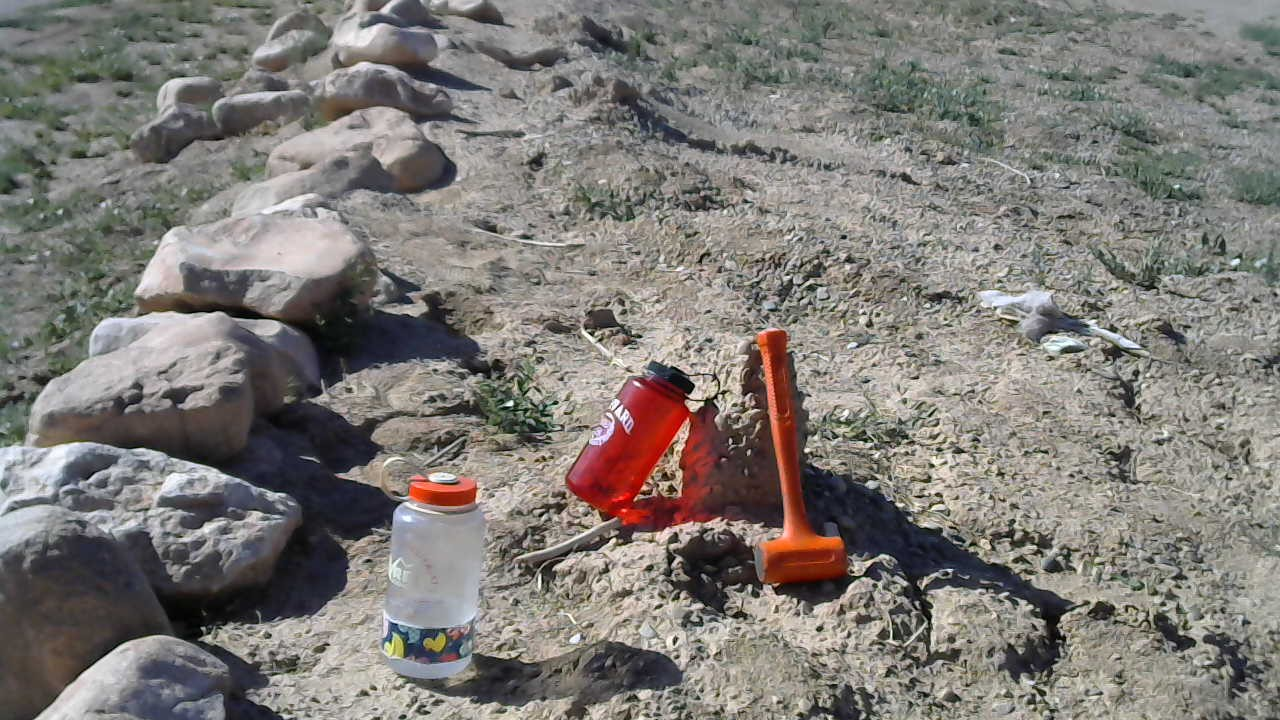bottle: (375, 453, 487, 683), (562, 359, 724, 517)
hammer: (746, 323, 851, 588)
